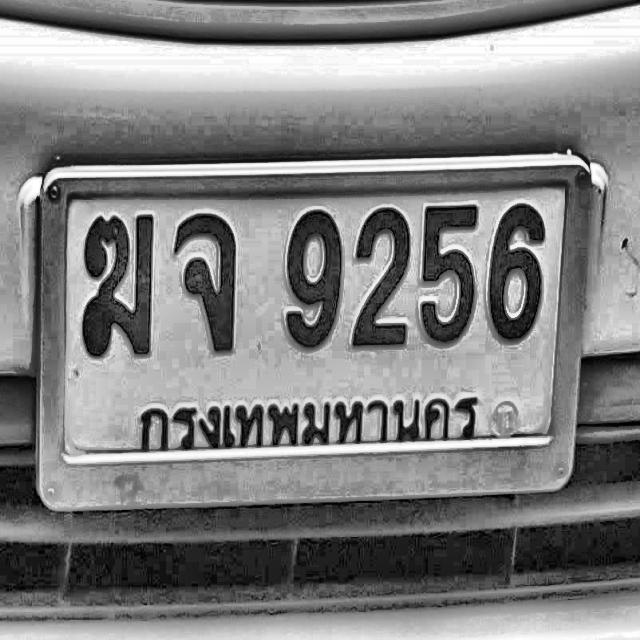license-plate: (23, 149, 606, 512)
